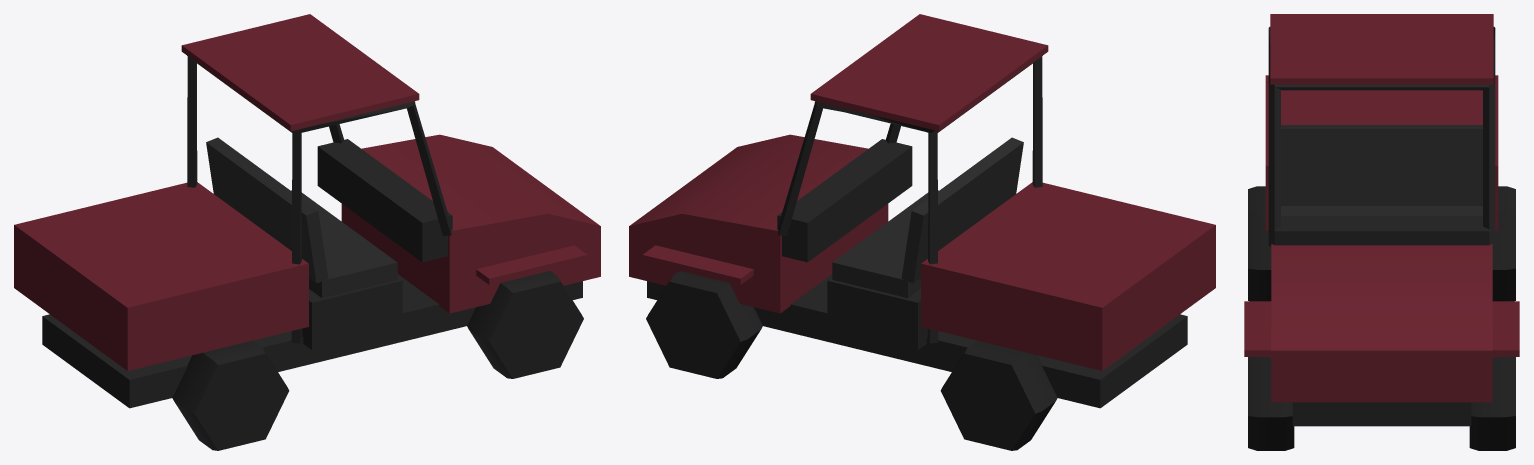
File: SM_Prop_farm_buggy_1_LOD2.glb
3 renders of one model, left to right at view 1: azimuth 30°, elevation 25°; view 2: azimuth 150°, elevation 25°; view 3: azimuth 270°, elevation 25°, orthographic. The views are drawn at different scales.
Visible parts, largest first — view 1: SM_Prop_farm_buggy_1_LOD2; view 2: SM_Prop_farm_buggy_1_LOD2; view 3: SM_Prop_farm_buggy_1_LOD2.
Boxes of the visible parts, x1,y1,x2,y2 form: SM_Prop_farm_buggy_1_LOD2: (14, 14, 600, 450); SM_Prop_farm_buggy_1_LOD2: (629, 14, 1215, 450); SM_Prop_farm_buggy_1_LOD2: (1244, 14, 1519, 450).
Bounding box in the file's own units: 3.15 × 1.9 × 1.54.
